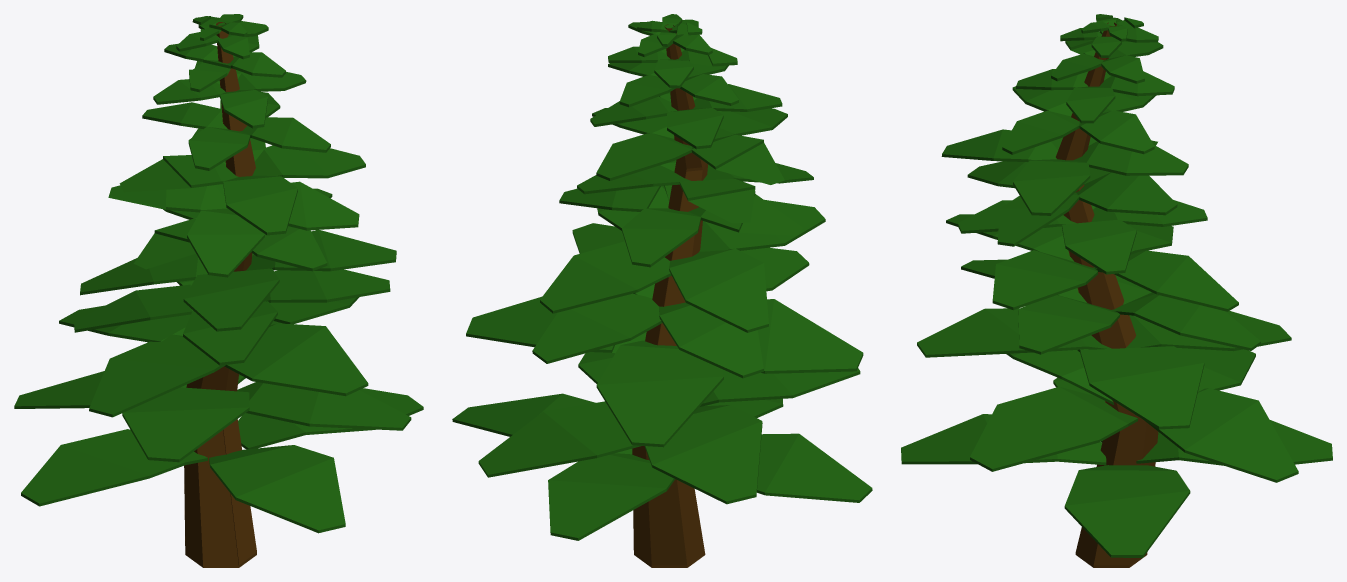
File: Single_Tree.fbx
The picture shows the model from 3 angles, left to right: view 1: azimuth 30°, elevation 25°; view 2: azimuth 150°, elevation 25°; view 3: azimuth 270°, elevation 25°; orthographic projection.
Visible parts, largest first — view 1: Plane.027; view 2: Plane.027; view 3: Plane.027.
Boxes of the visible parts, bbox=[...] form: Plane.027: bbox=[14, 14, 423, 567]; Plane.027: bbox=[452, 14, 872, 567]; Plane.027: bbox=[901, 14, 1332, 567].
Bounding box in the file's own units: 1280 × 1637 × 1204.
